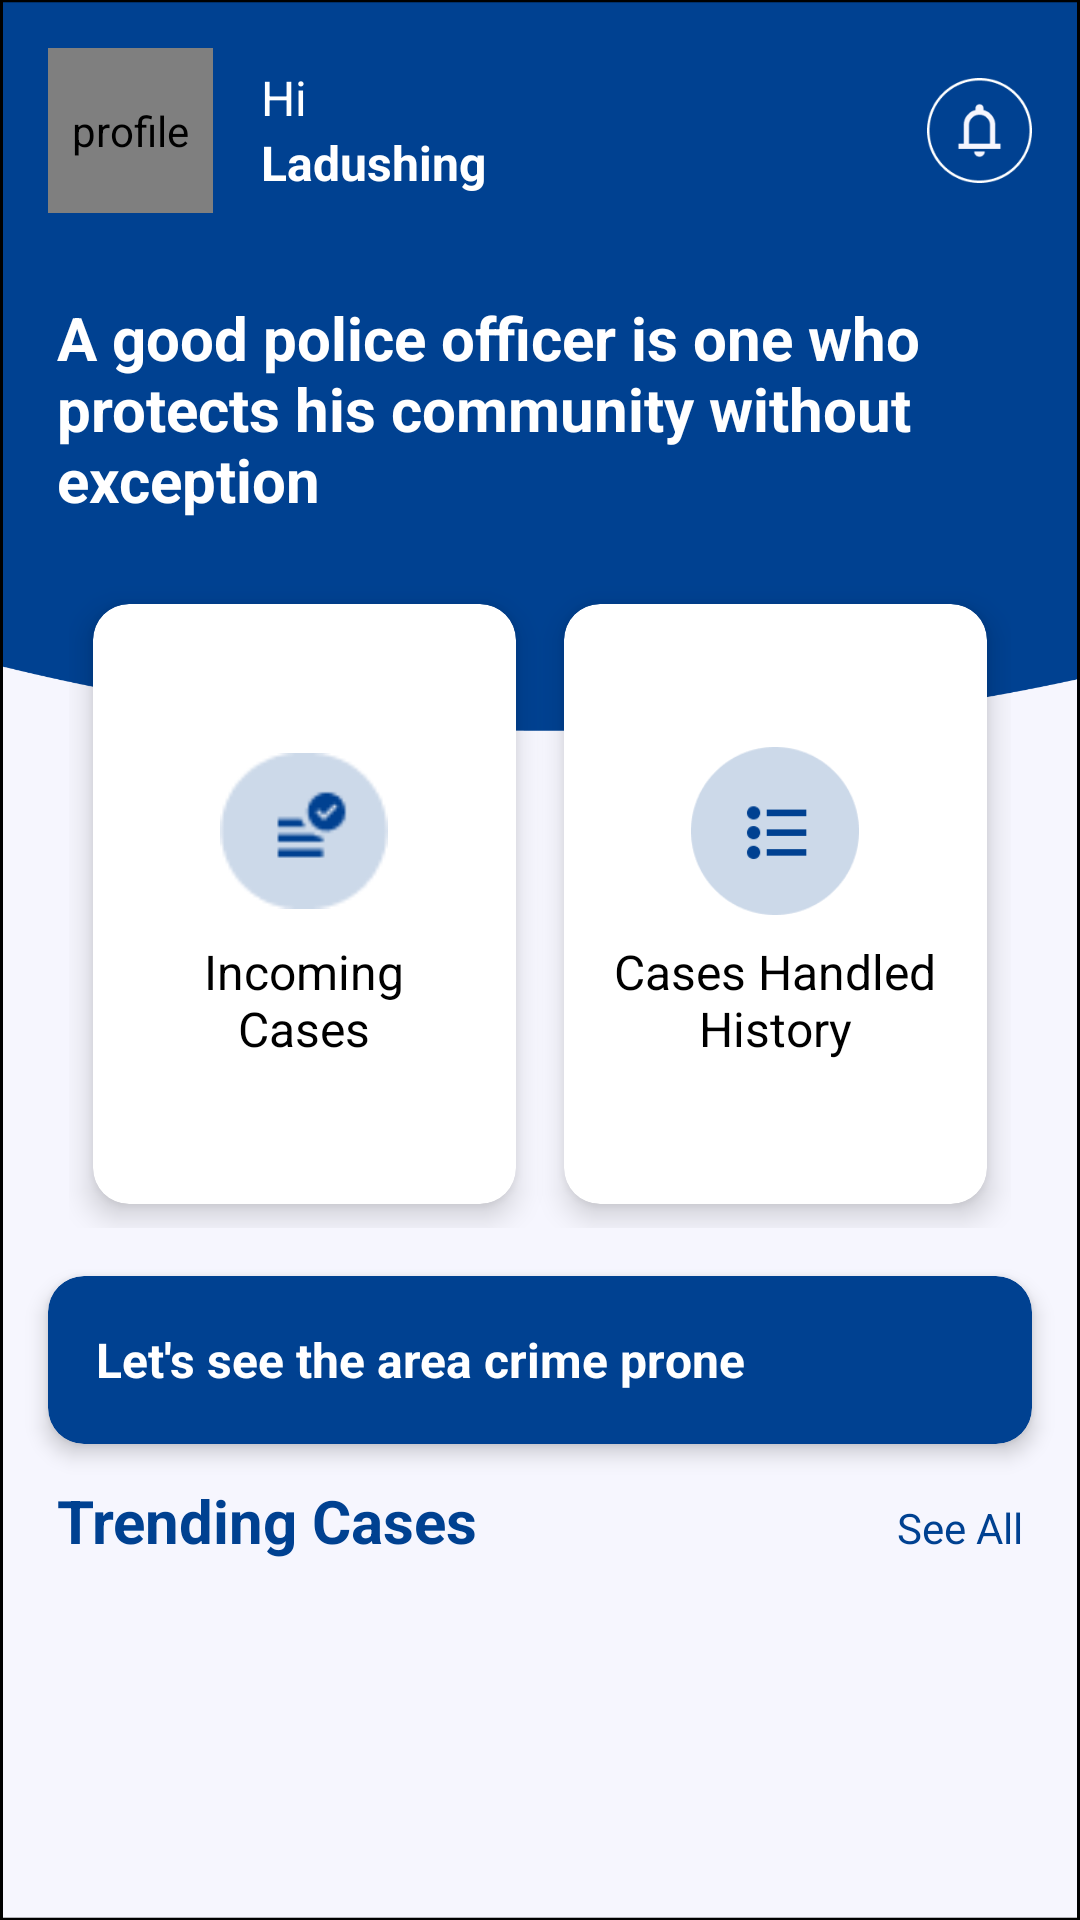

Where to tap for icons on this 1080x1920 app screen, as (x,y):
Notifications: (979,130)
reporthistory: (775,831)
